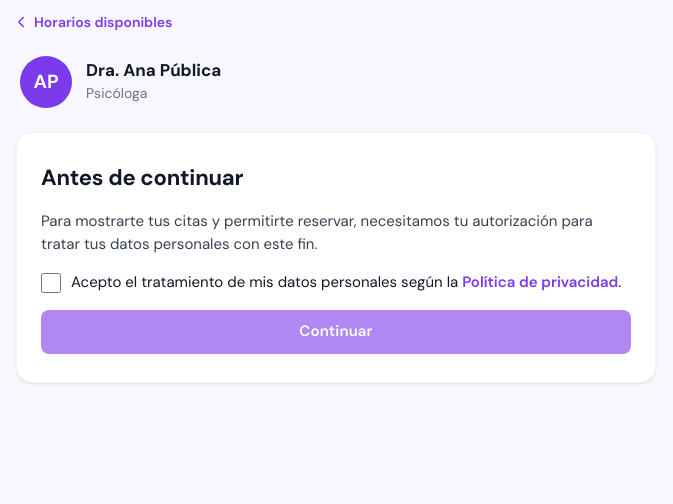
Test: PortalAppointmentsPage › goes back to the login when consent answers 401
Click the checkbox.
click(51, 283)  # box [41,273,61,293]
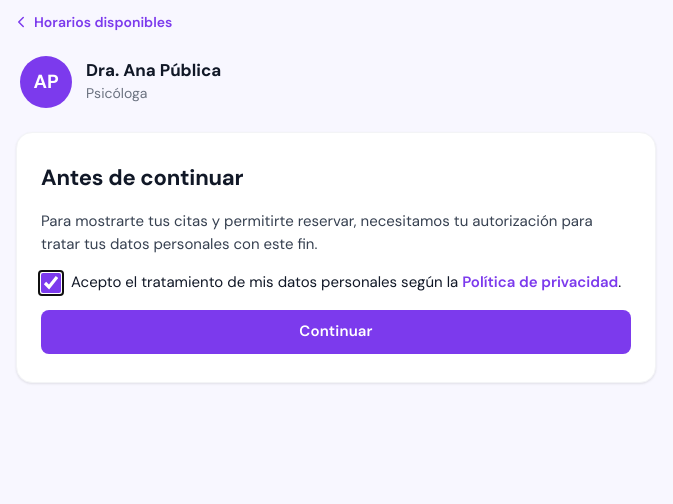
Click the button "Continuar".
click(336, 332)  # box [41,310,631,354]
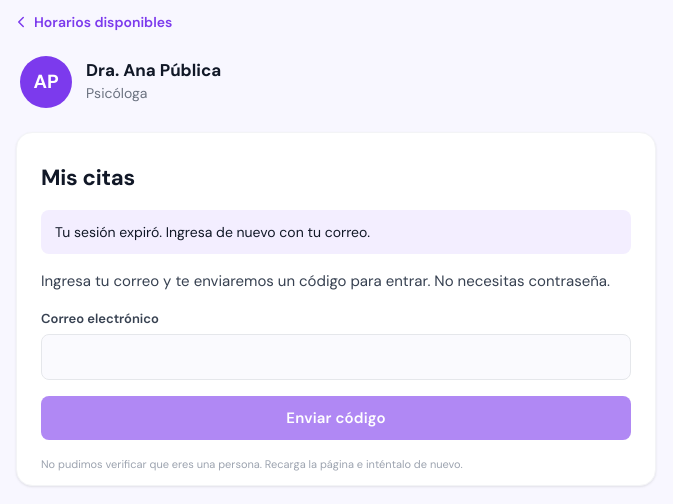
expect the field labelled "Correo electrónico" is shown: met, box [41,334,631,380]
expect the message "Tu sesión expiró. Ingresa de nuevo con tu correo." is shown: met, box [41,210,631,254]
